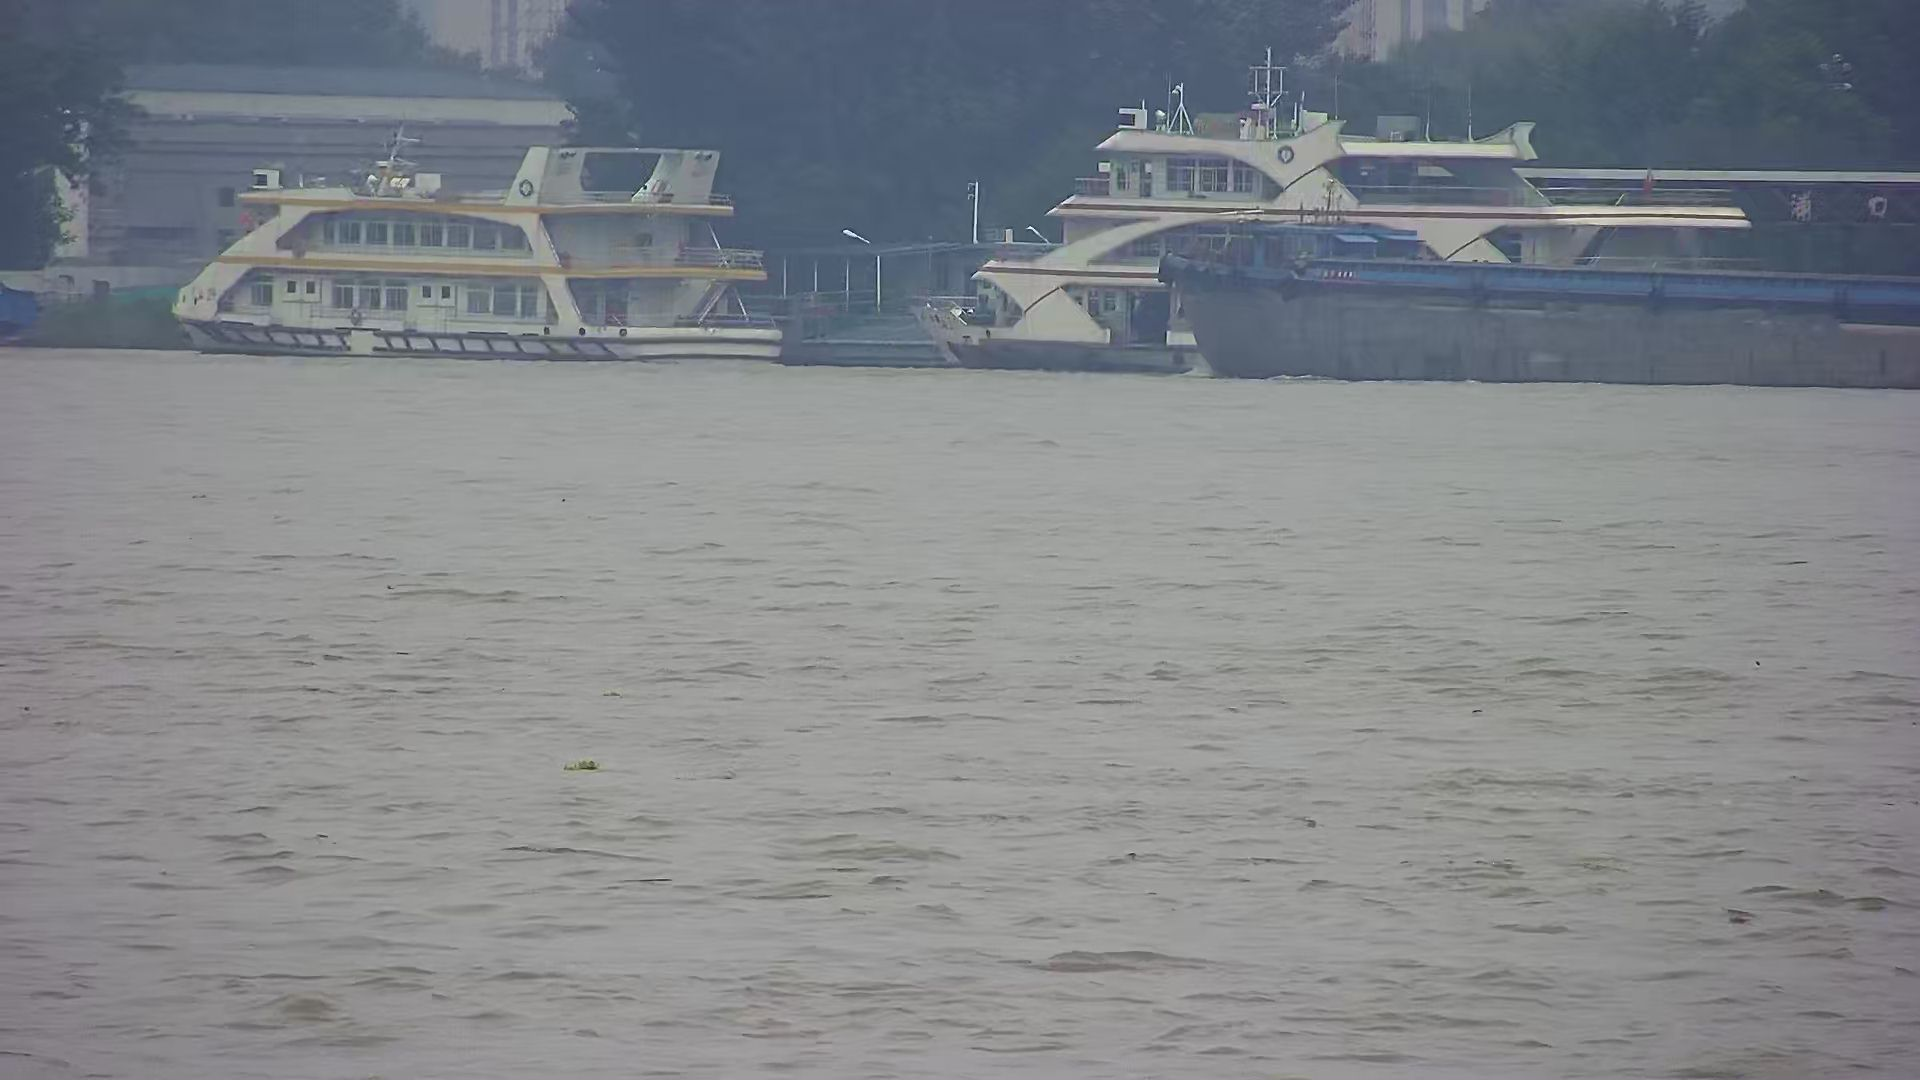ship: (909, 42, 1767, 377), (161, 117, 808, 371), (1155, 200, 1920, 388)
